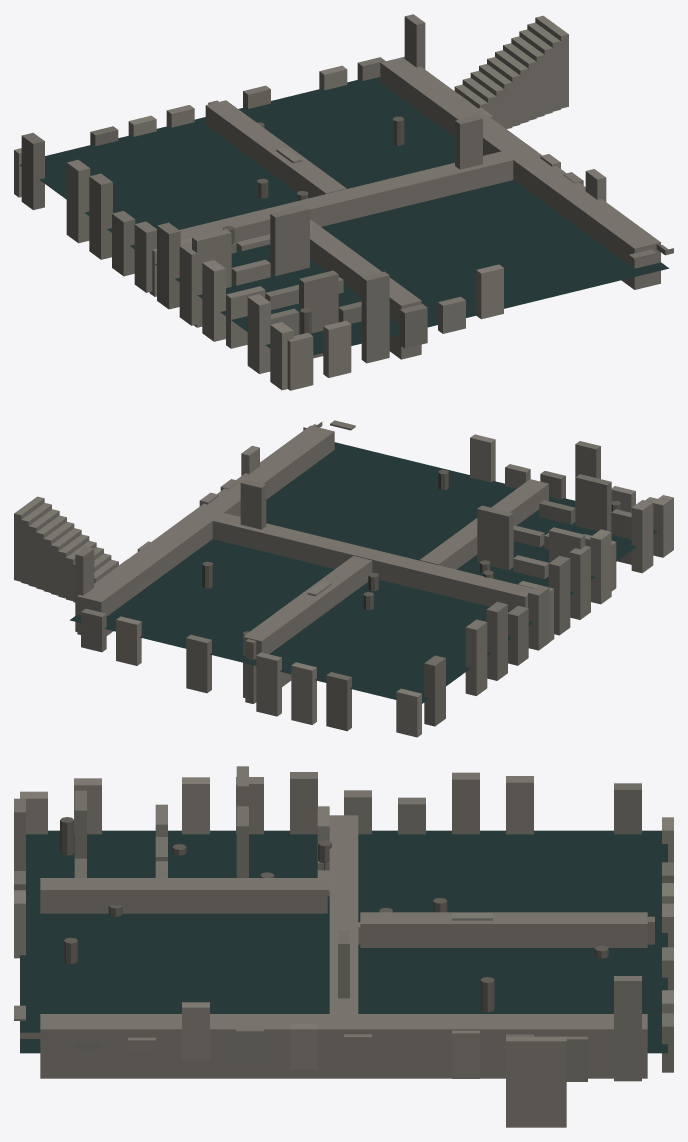
Rendered from sutroBaths_lod0.glb.
The picture shows the model from 3 angles, top to bottom: view 1: azimuth 30°, elevation 25°; view 2: azimuth 150°, elevation 25°; view 3: azimuth 270°, elevation 25°; orthographic projection. The views are drawn at different scales.
Parts seen in each view (by area): view 1: L0_concrete, L0_water; view 2: L0_concrete, L0_water; view 3: L0_concrete, L0_water.
Part boxes in pixels (x1=…): L0_concrete: x1=14, y1=14, x2=673, y2=390; L0_water: x1=19, y1=77, x2=669, y2=355; L0_concrete: x1=14, y1=420, x2=673, y2=737; L0_water: x1=70, y1=442, x2=657, y2=703; L0_concrete: x1=14, y1=766, x2=673, y2=1127; L0_water: x1=20, y1=830, x2=667, y2=1053.
Size of the model in its own units: 33.4 by 7.4 by 32.6.
